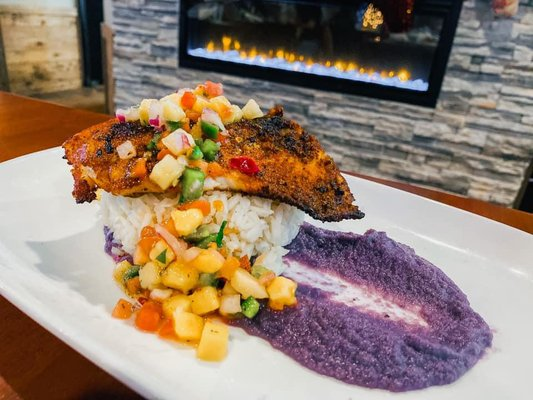soup: (16, 79, 492, 396)
